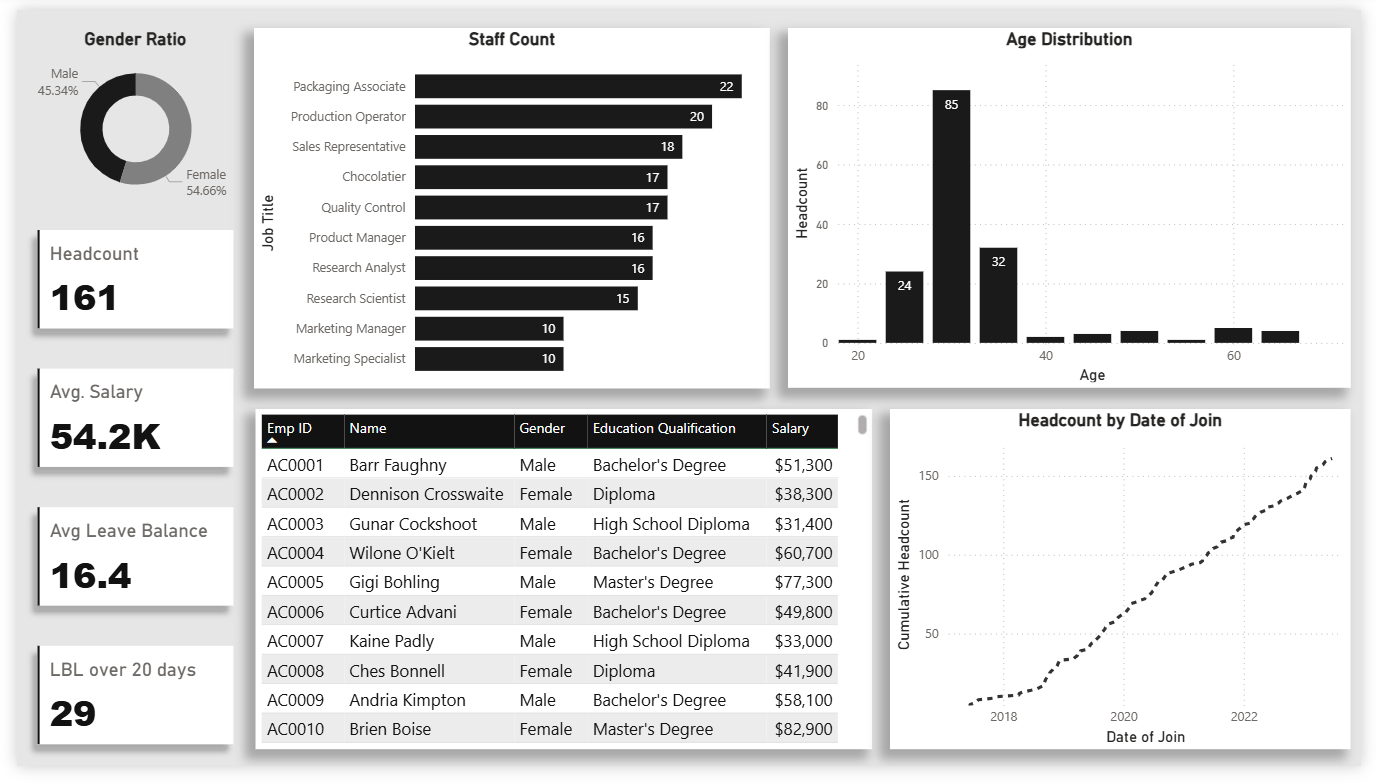

The dashboard page shown, as its layout file describes it:
{"tool":"powerbi","page":{"name":"Overview","canvas":[1280,720],"ordinal":4},"visuals":[{"type":"cardVisual","fields":{"Data":["staff.Headcount","staff.Avg. Salary","staff.Avg Leave Balance","staff.LBL over 20 days"]},"box":[0,189.7,225.3,528.3],"z":0},{"type":"barChart","title":"Staff Count","fields":{"Category":["staff.Job Title"],"Y":["staff.Headcount"]},"box":[225.7,17.4,491.4,343.2],"z":1000},{"type":"donutChart","title":"Gender Ratio","fields":{"Y":["staff.Headcount"],"Category":["staff.Gender"]},"box":[0,17.4,225.7,172.3],"z":2000},{"type":"clusteredColumnChart","title":"Age Distribution","fields":{"Category":["staff.Age (bins)"],"Y":["staff.Headcount"]},"box":[733.8,17.1,536.2,342.5],"z":3000},{"type":"tableEx","fields":{"Values":["staff.Emp ID","staff.Name","staff.Gender","staff.Education Qualification","staff.Salary"]},"box":[226.6,379.4,587.6,324.1],"z":4000},{"type":"lineChart","title":"Headcount by Date of Join","fields":{"Category":["staff.Date of Join"],"Y":["staff.Cumulative Headcount"]},"box":[831.3,379.4,438.7,324.1],"z":5000}]}

Visuals, with their boxes in screenshot pixels (x1, y1, x2, y2), scaled from the page's 1280x720 canvas onto the 1377x784 screenshot:
cardVisual - staff.Headcount x staff.Avg. Salary: [0,207,242,782]
"Staff Count" barChart: [243,19,771,393]
"Gender Ratio" donutChart: [0,19,243,207]
"Age Distribution" clusteredColumnChart: [789,19,1366,392]
tableEx - staff.Emp ID x staff.Name: [244,413,876,766]
"Headcount by Date of Join" lineChart: [894,413,1366,766]
